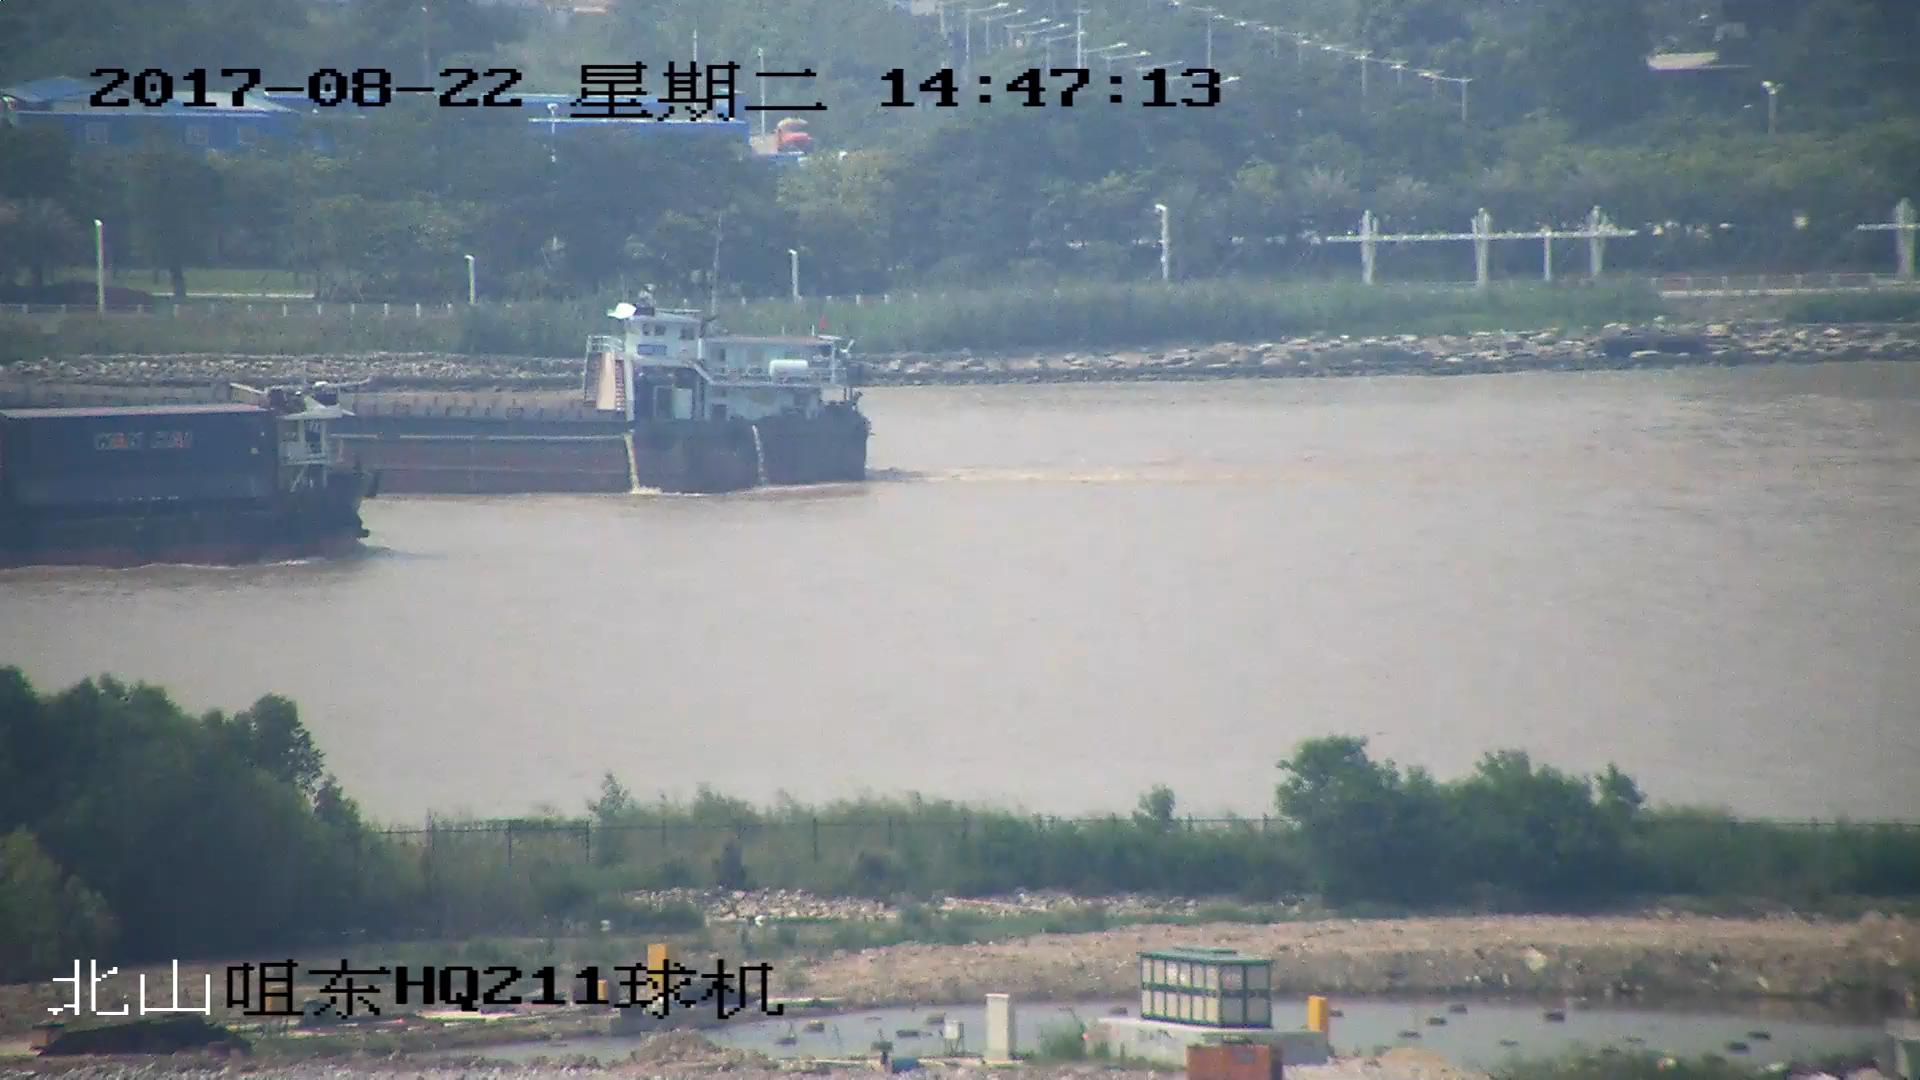bulk cargo carrier: (1, 296, 882, 497)
container ship: (1, 378, 382, 563)
